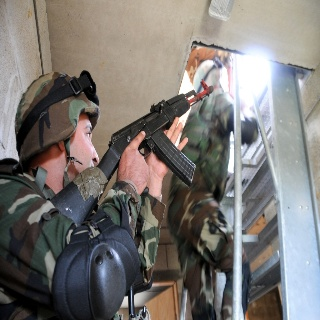rifle: (52, 80, 215, 229)
